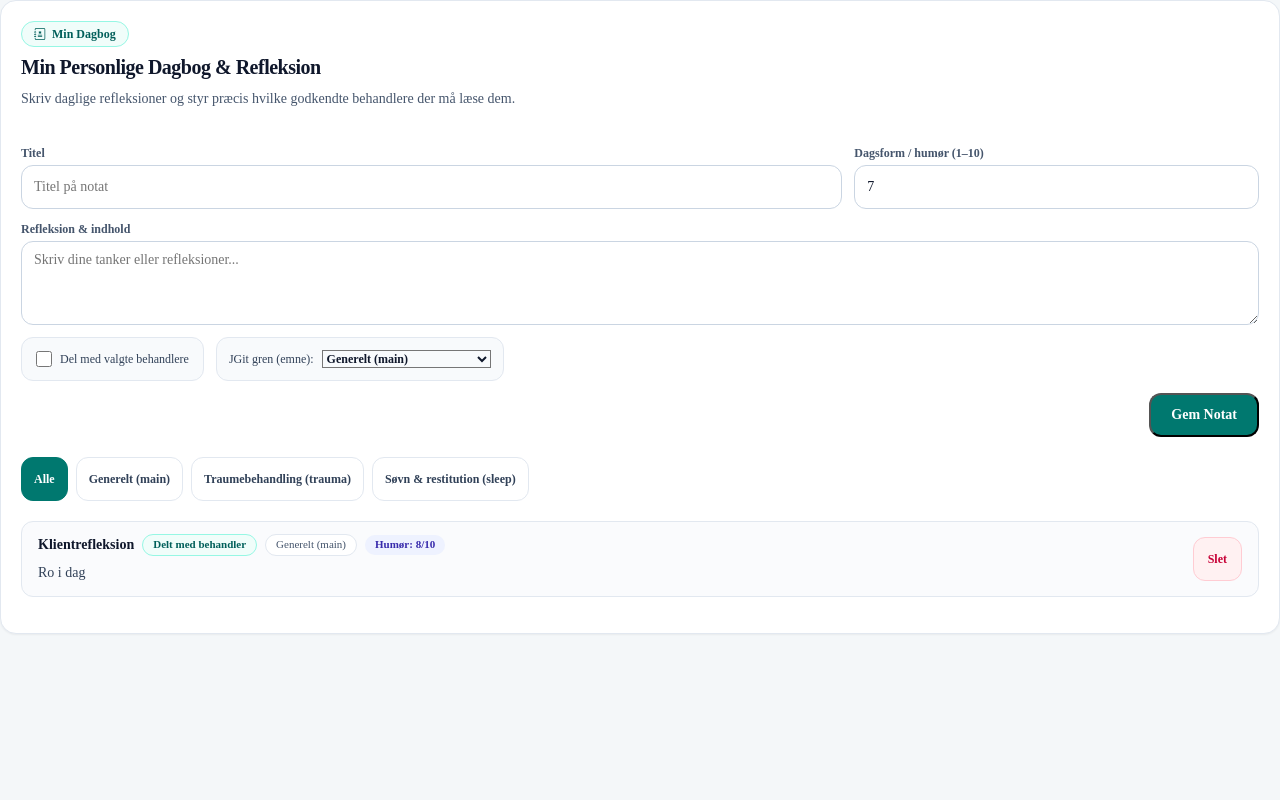
it: JournalFeature Vertical Slice › JournalFeatureView CRUD + DomainGuard + ProblemDetail › supports portalMode='client' diary with active handshake checkboxes and privacy filtering
Expected: the text "Klientrefleksion" is shown, [38,535,134,555]
Expected: the text "Ro i dag" is shown, [38,565,86,580]
Note: Enable sharing with active therapist
Click the checkbox with test id "input-journal-shared" at (44, 359), box [36,351,52,367]
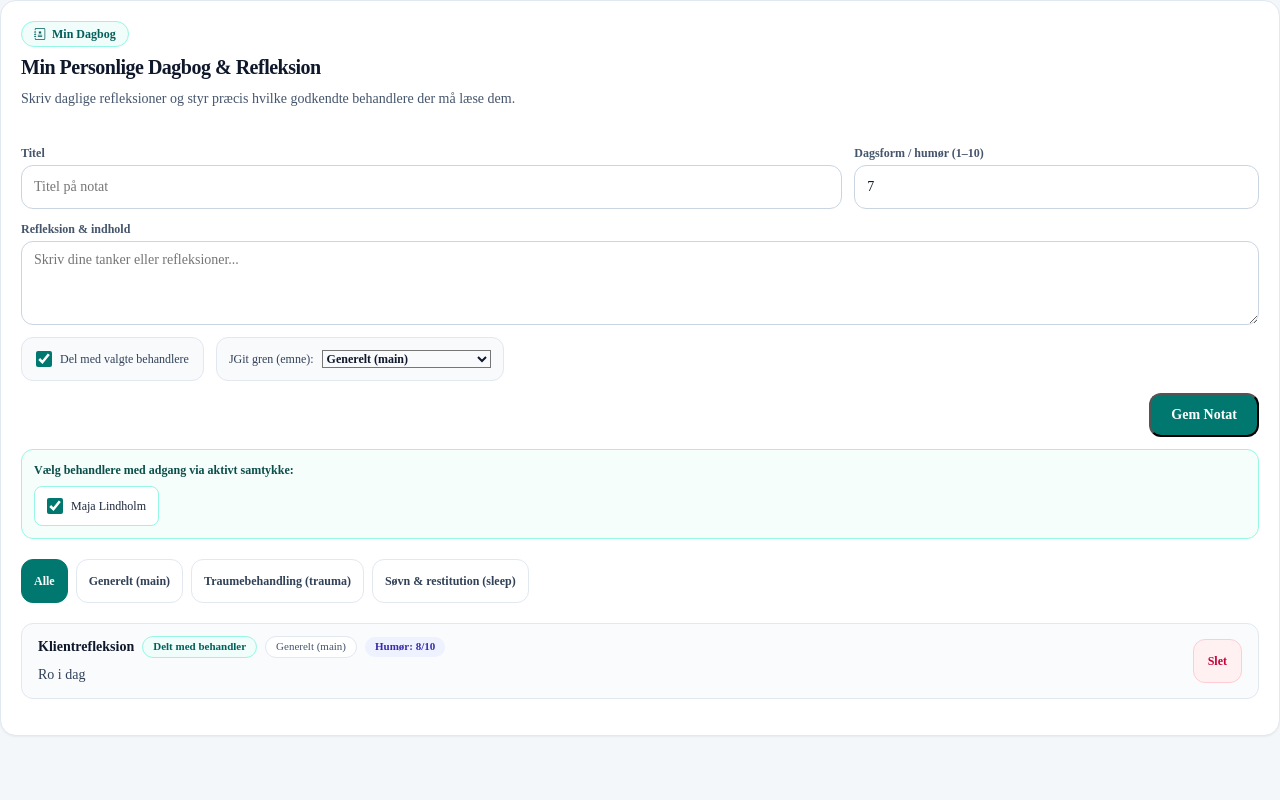
Now the checkbox with test id "share-therapist-checkbox-th-1" is shown
Note: Toggle checkbox off & on again
Click the checkbox with test id "share-therapist-checkbox-th-1" at (55, 506), box [47,498,63,514]
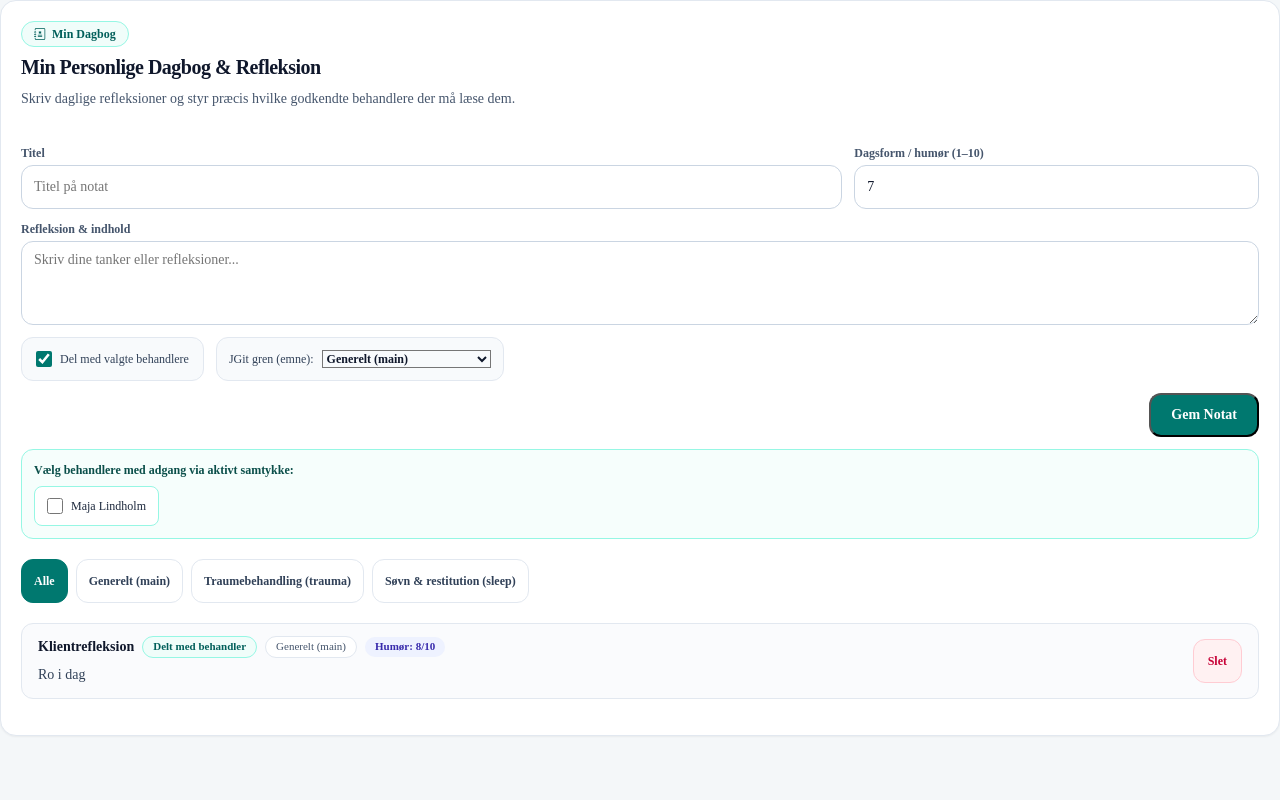
Click the checkbox with test id "share-therapist-checkbox-th-1" at (55, 506), box [47,498,63,514]
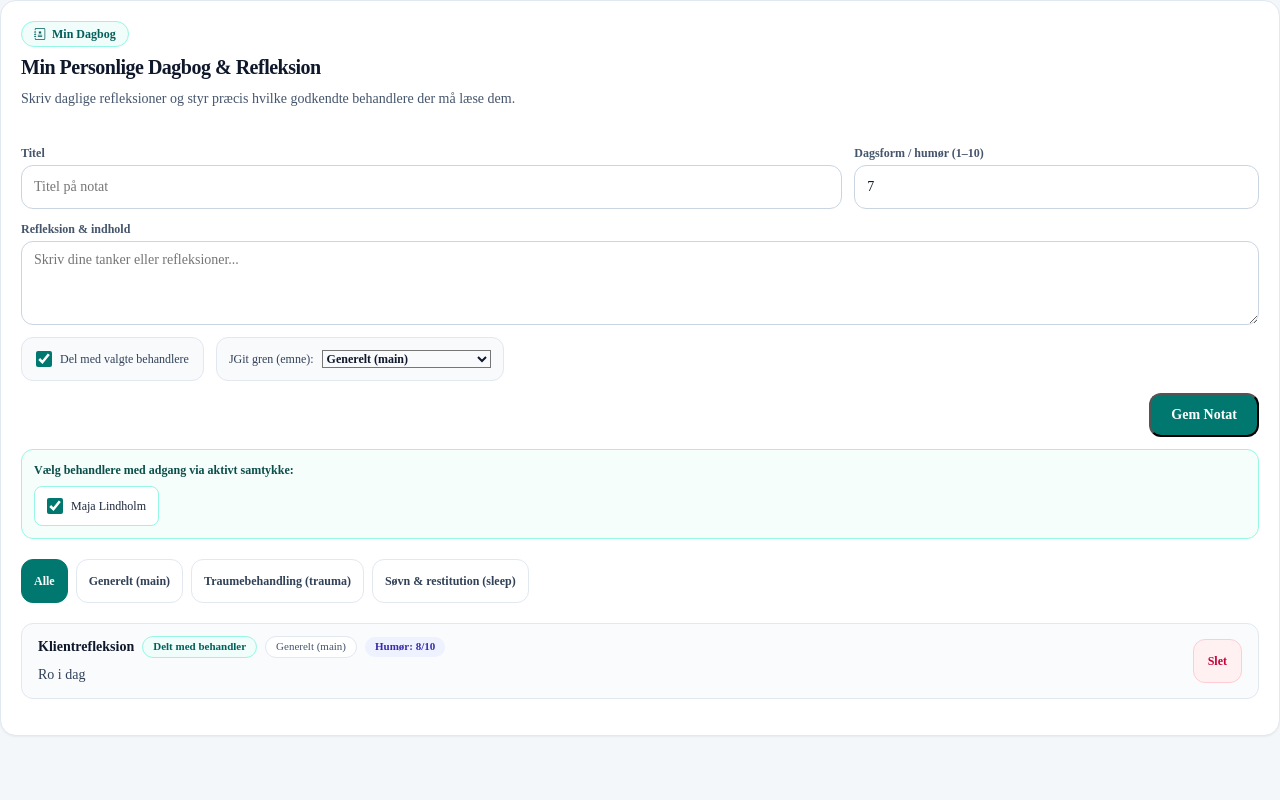
Type "Delt refleksion" into the field with test id "input-journal-title" at (432, 187), box [21,165,842,209]
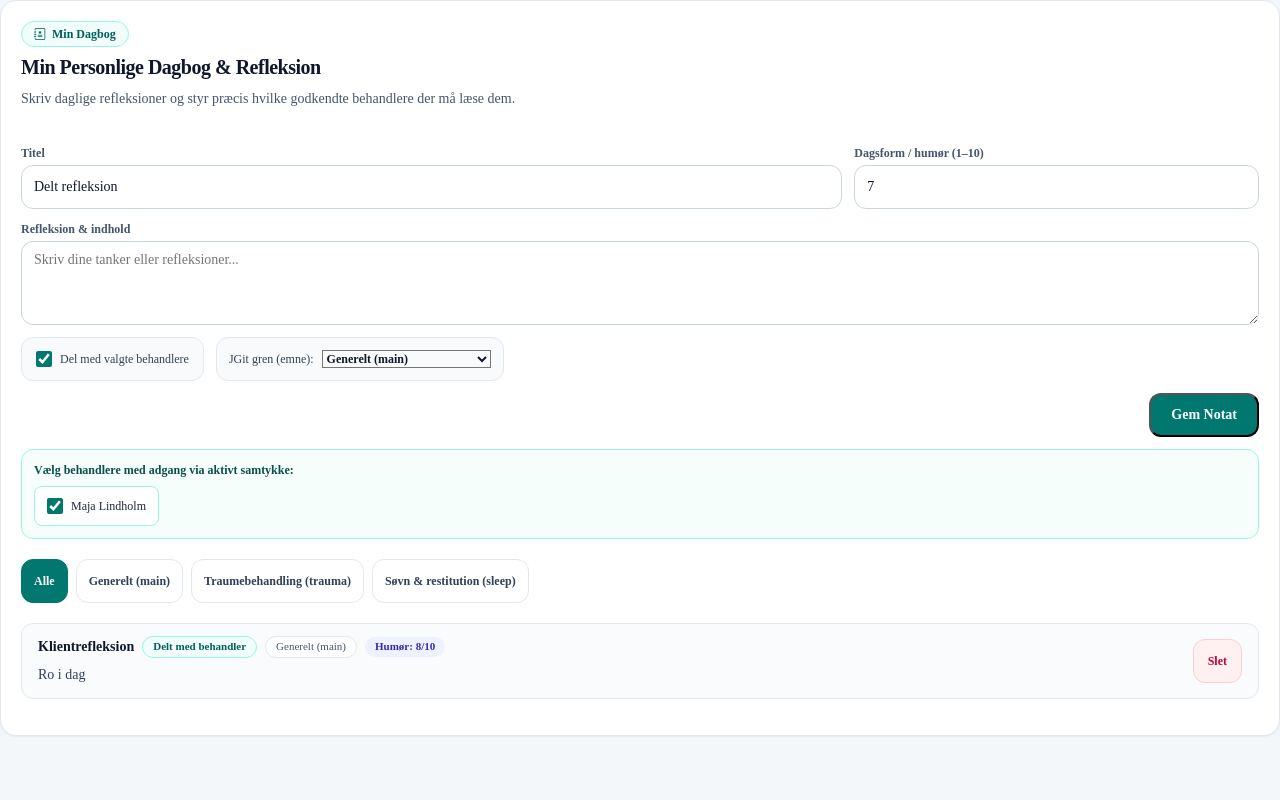
Type "Delte tanker med Maja" into the text box with test id "input-journal-content" at (640, 283), box [21,241,1259,325]
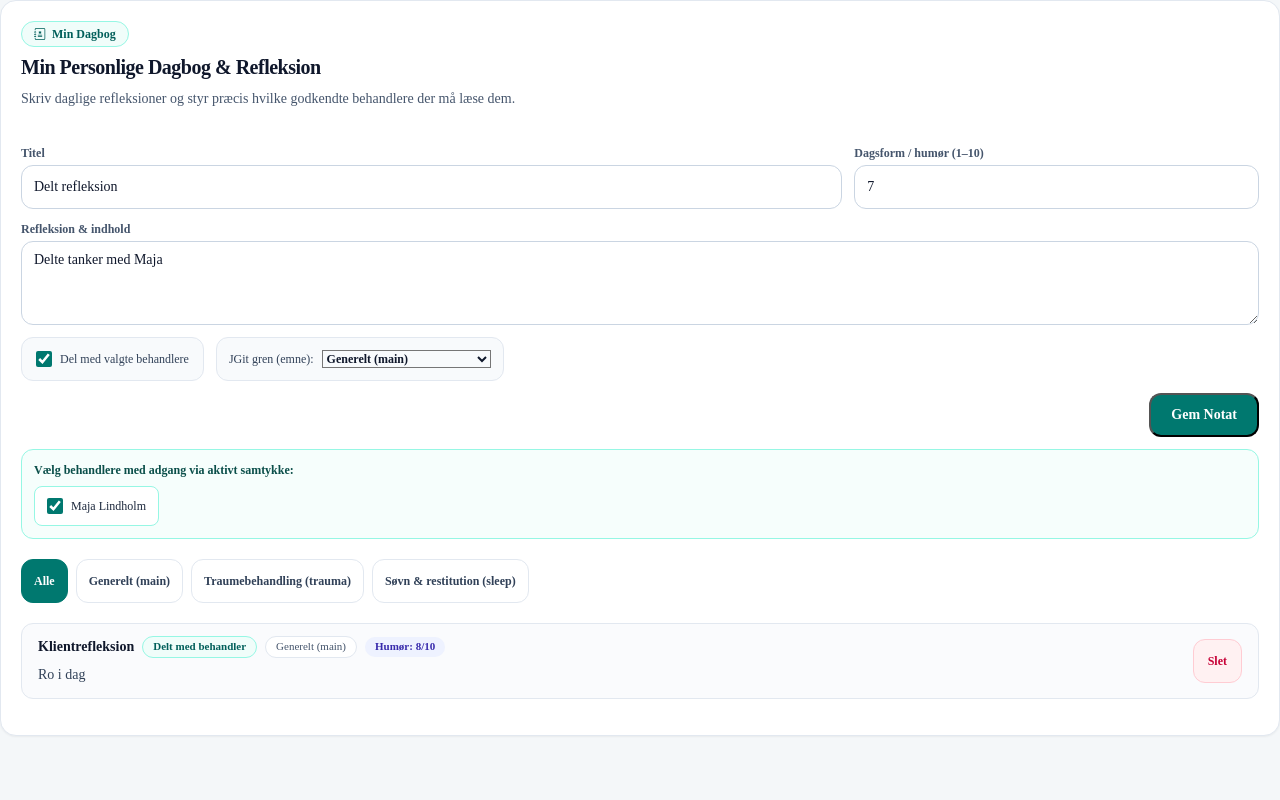
Click the button with test id "submit-journal" at (1204, 415), box [1149,393,1259,437]
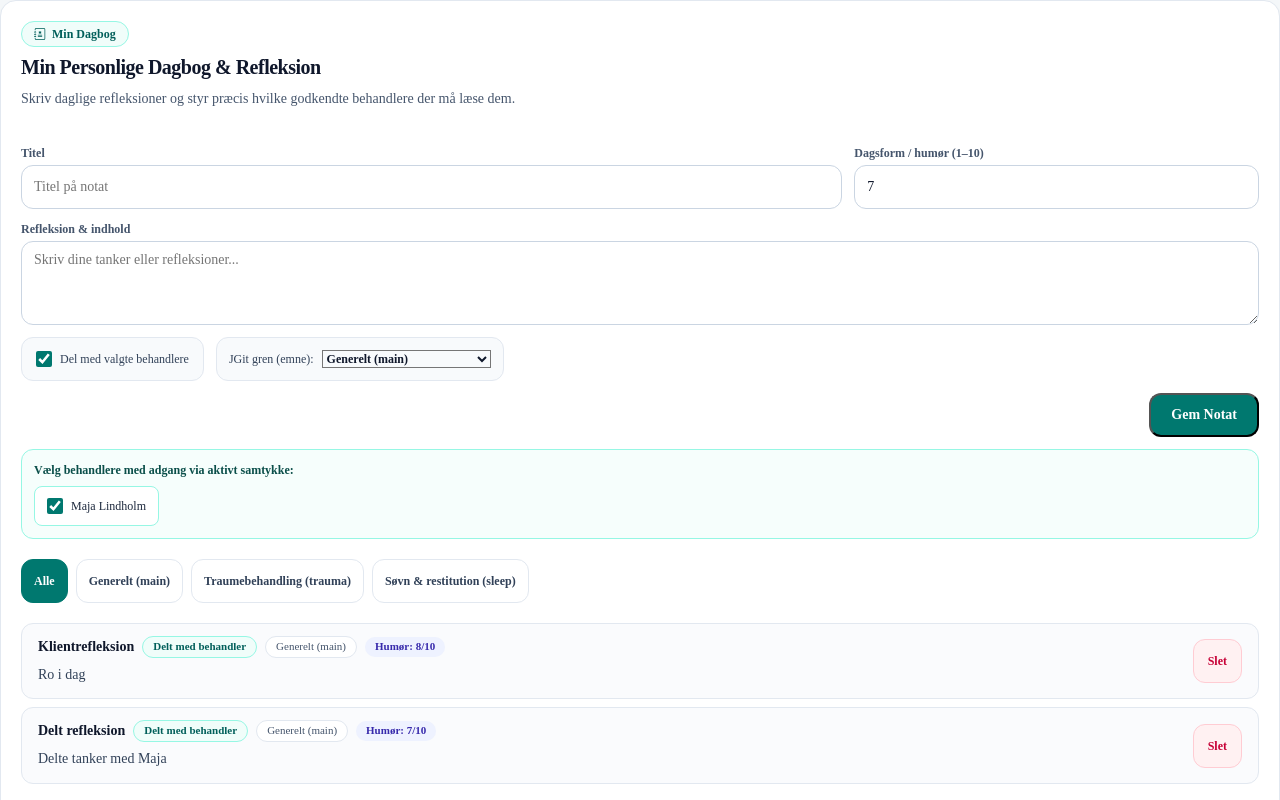
Now the text "Delt refleksion" is shown, box [38,721,125,741]
